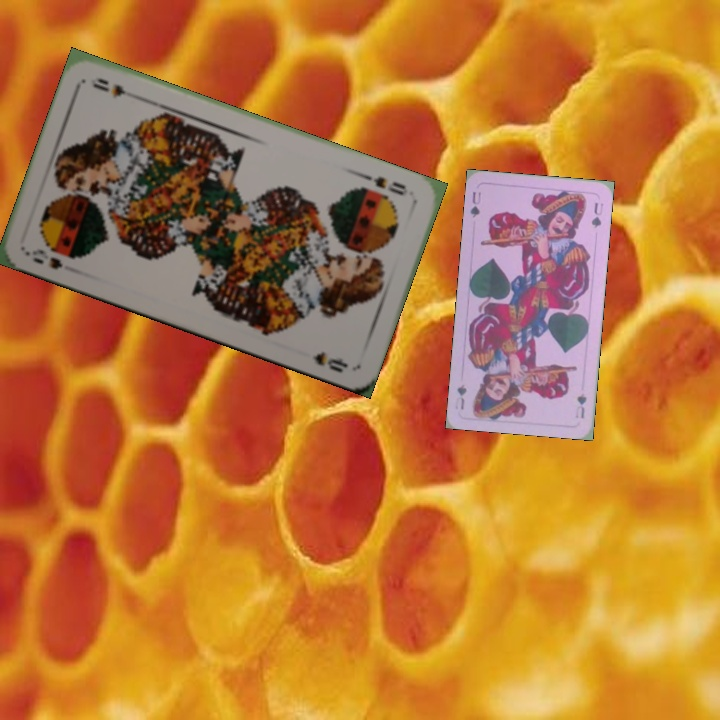GU: (466, 188, 484, 220), (571, 389, 589, 421)
SO: (359, 170, 409, 198), (23, 244, 66, 272)
